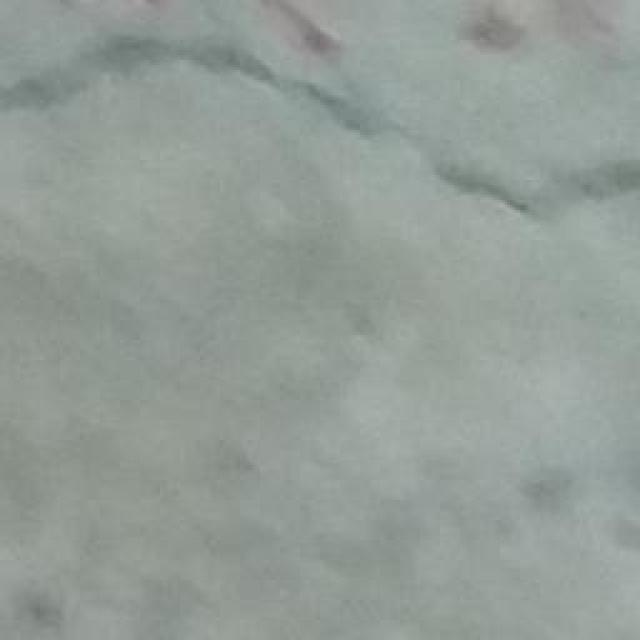Transverse: (0, 18, 640, 226)
